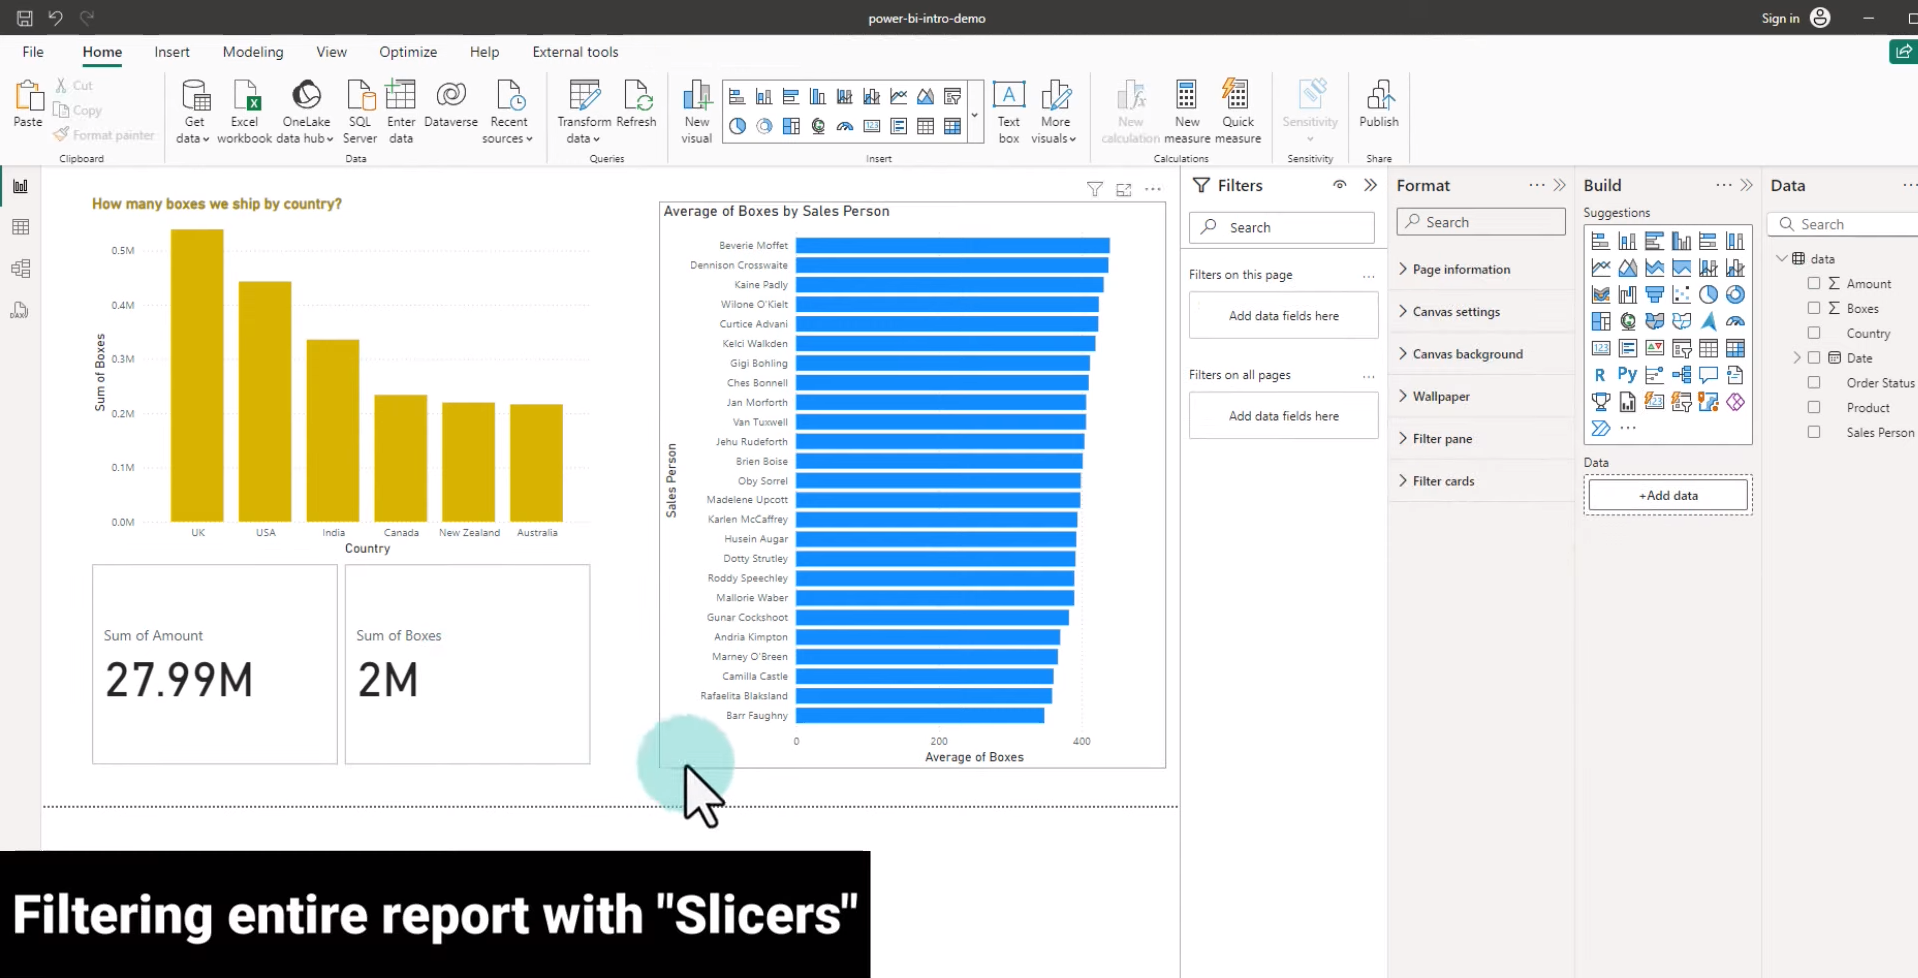

The page's visual inventory and layout, read from the dashboard file:
{"tool":"powerbi","page":{"name":"Page 1","canvas":[1280,720],"ordinal":0},"visuals":[{"type":"columnChart","title":"How many boxes we ship by country?","fields":{"Category":["data.Country"],"Y":["Sum(data.Boxes)"]},"box":[17.5,3.8,711.2,330],"z":0},{"type":"clusteredBarChart","fields":{"Category":["data.Sales Person"],"Y":["Avg(data.Boxes)"]},"box":[768.8,0,511.2,702.5],"z":1000},{"type":"cardVisual","fields":{"Data":["Sum(data.Amount)","Sum(data.Boxes)"]},"box":[17.5,360,347.5,161.2],"z":2000},{"type":"slicer","fields":{"Values":["data.Product"]},"box":[403.8,341.2,325,361.2],"z":3000},{"type":"slicer","fields":{"Values":["data.Date"]},"box":[41.2,543.8,323.8,122.5],"z":4000}]}

Visuals, with their boxes on the page's 1280x720 design canvas (x1, y1, x2, y2). These are canvas units, not pixel positions in the 1918x978 screenshot, which may show the page scaled, cropped or inside an application window:
"How many boxes we ship by country?" columnChart: x1=18, y1=4, x2=729, y2=334
clusteredBarChart - data.Sales Person x Avg(data.Boxes): x1=769, y1=0, x2=1280, y2=702
cardVisual - Sum(data.Amount) x Sum(data.Boxes): x1=18, y1=360, x2=365, y2=521
slicer - data.Product: x1=404, y1=341, x2=729, y2=702
slicer - data.Date: x1=41, y1=544, x2=365, y2=666
